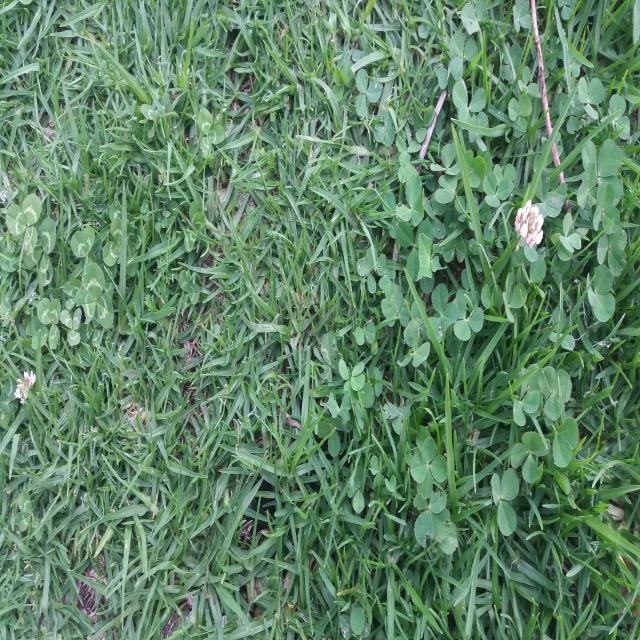Four Leaf Clover: (412, 493, 450, 548), (410, 439, 448, 490), (383, 392, 413, 434)
